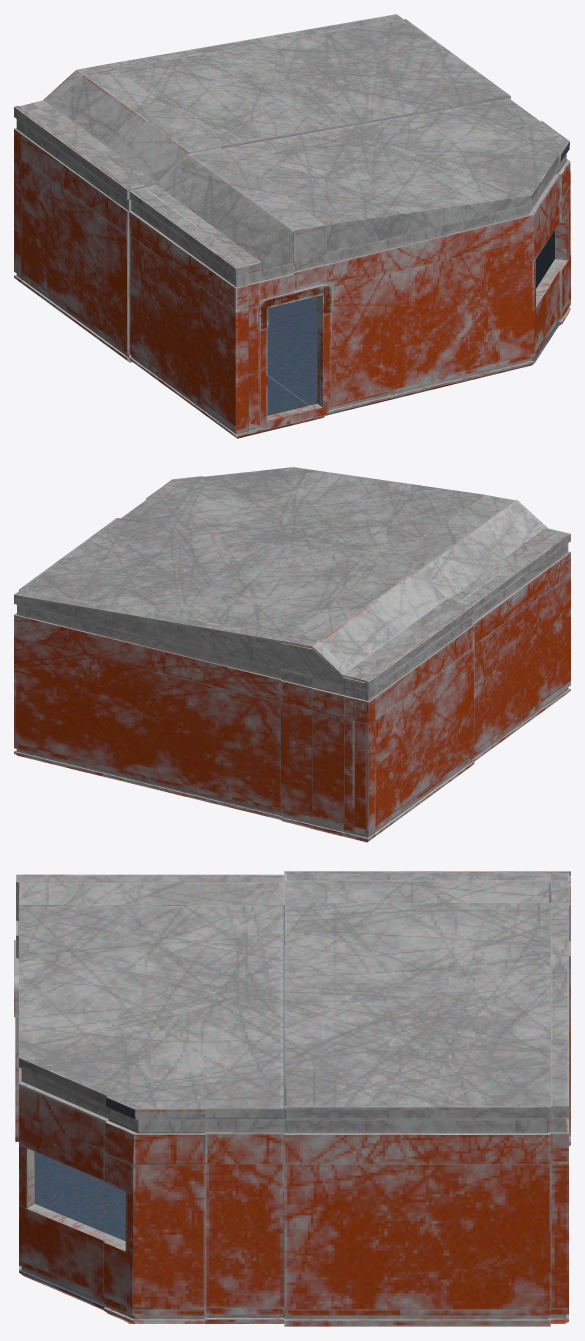
Rendered from wall.fbx.
3 views of the same model, one above another, from view 1: azimuth 30°, elevation 25°; view 2: azimuth 150°, elevation 25°; view 3: azimuth 270°, elevation 25° (orthographic). The views are drawn at different scales.
Parts seen in each view (by area): view 1: station; view 2: station; view 3: station.
Part boxes in pixels (x1,y1,x2,y2): station: (14,14,570,438); station: (14,467,570,842); station: (14,871,570,1326).
Bounding box in the file's own units: 2039 × 996 × 2025.
